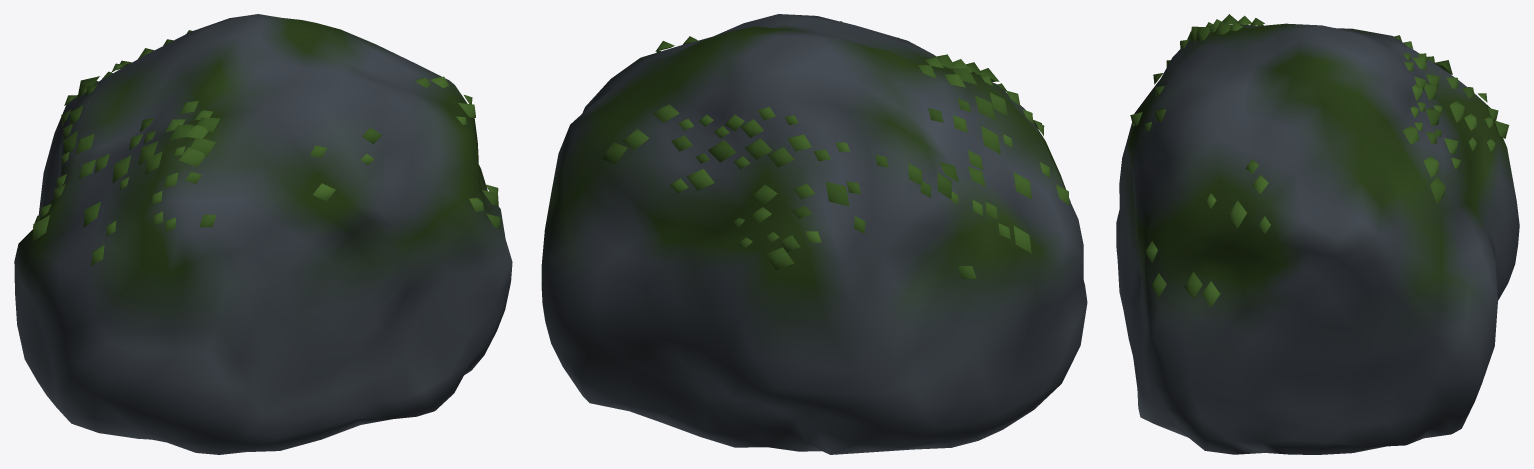
The model's file is small_rock.glb.
The picture shows the model from 3 angles, left to right: view 1: azimuth 30°, elevation 25°; view 2: azimuth 150°, elevation 25°; view 3: azimuth 270°, elevation 25°; orthographic projection. The views are drawn at different scales.
Visible parts, largest first — view 1: Small_Rock_Stone.001, Small_Rock_Moss.001; view 2: Small_Rock_Stone.001, Small_Rock_Moss.001; view 3: Small_Rock_Stone.001, Small_Rock_Moss.001.
Part boxes in pixels (x1=…): Small_Rock_Stone.001: x1=14, y1=14, x2=512, y2=454; Small_Rock_Moss.001: x1=32, y1=30, x2=500, y2=265; Small_Rock_Stone.001: x1=541, y1=14, x2=1087, y2=454; Small_Rock_Moss.001: x1=602, y1=21, x2=1069, y2=278; Small_Rock_Stone.001: x1=1116, y1=23, x2=1519, y2=454; Small_Rock_Moss.001: x1=1130, y1=14, x2=1509, y2=307.
Size of the model in its own units: 0.2787 by 0.2105 by 0.2294.
